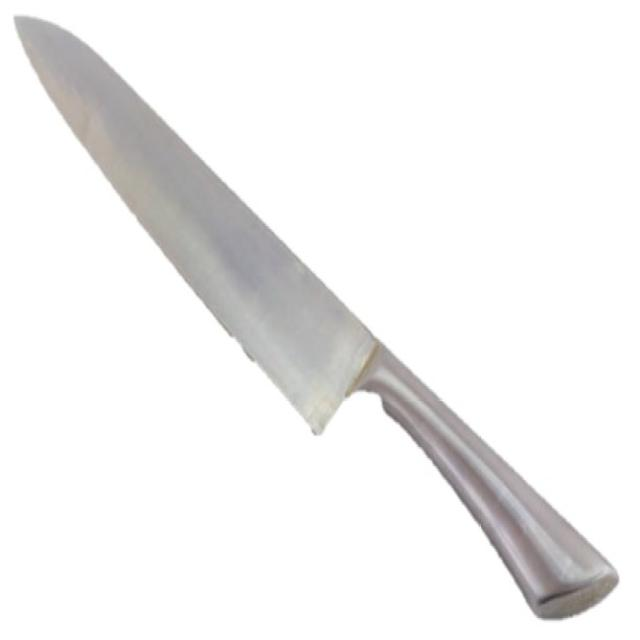knife: (11, 4, 623, 627)
